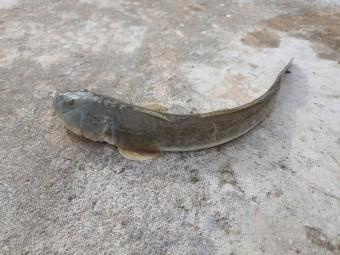fish: (53, 58, 293, 159)
